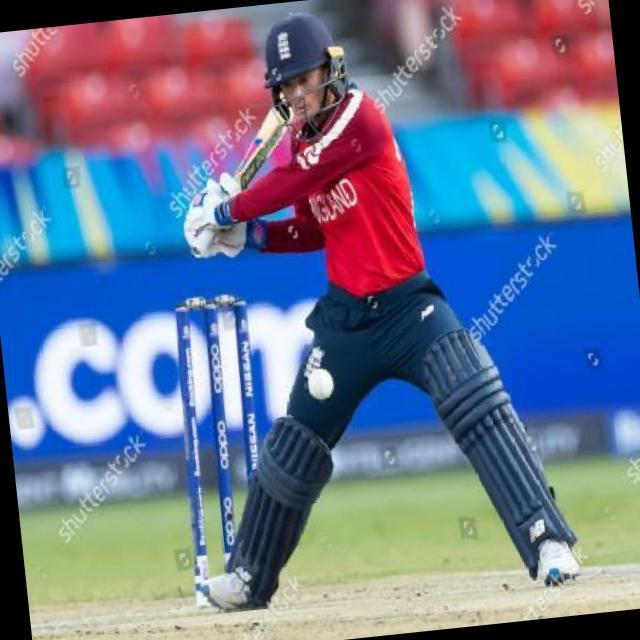-: (298, 362, 347, 411)
